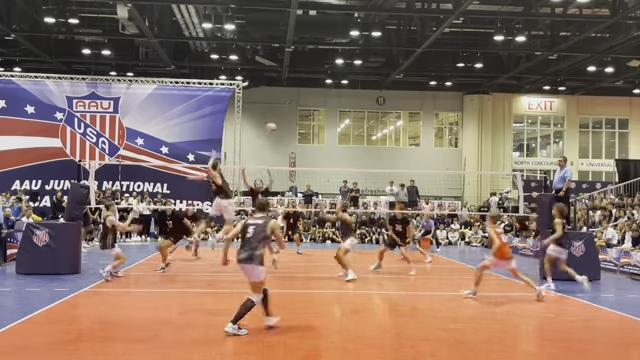Attack: (193, 149, 233, 252)
Player: (222, 198, 284, 335), (464, 212, 543, 299), (544, 203, 589, 289), (100, 203, 141, 280), (370, 204, 415, 274), (156, 202, 193, 271), (327, 201, 356, 281), (242, 168, 272, 206), (283, 202, 302, 254), (186, 231, 200, 257)
ball: (266, 121, 277, 133)
